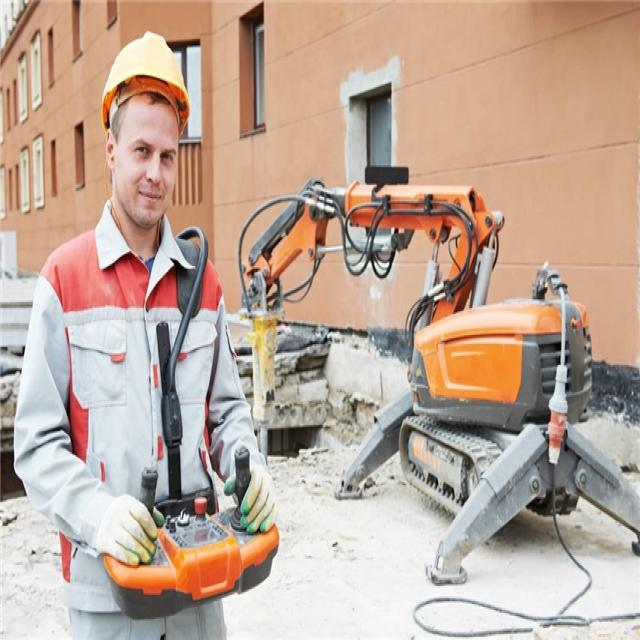helmet: (92, 36, 196, 104)
